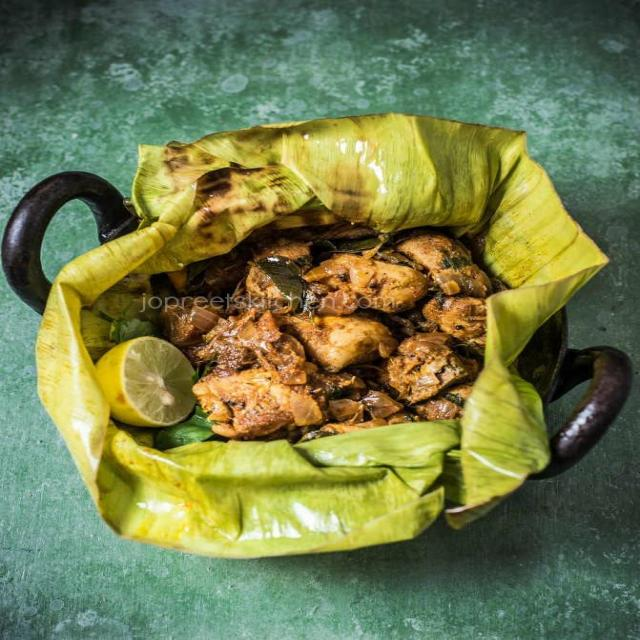chicken: (124, 219, 532, 446)
